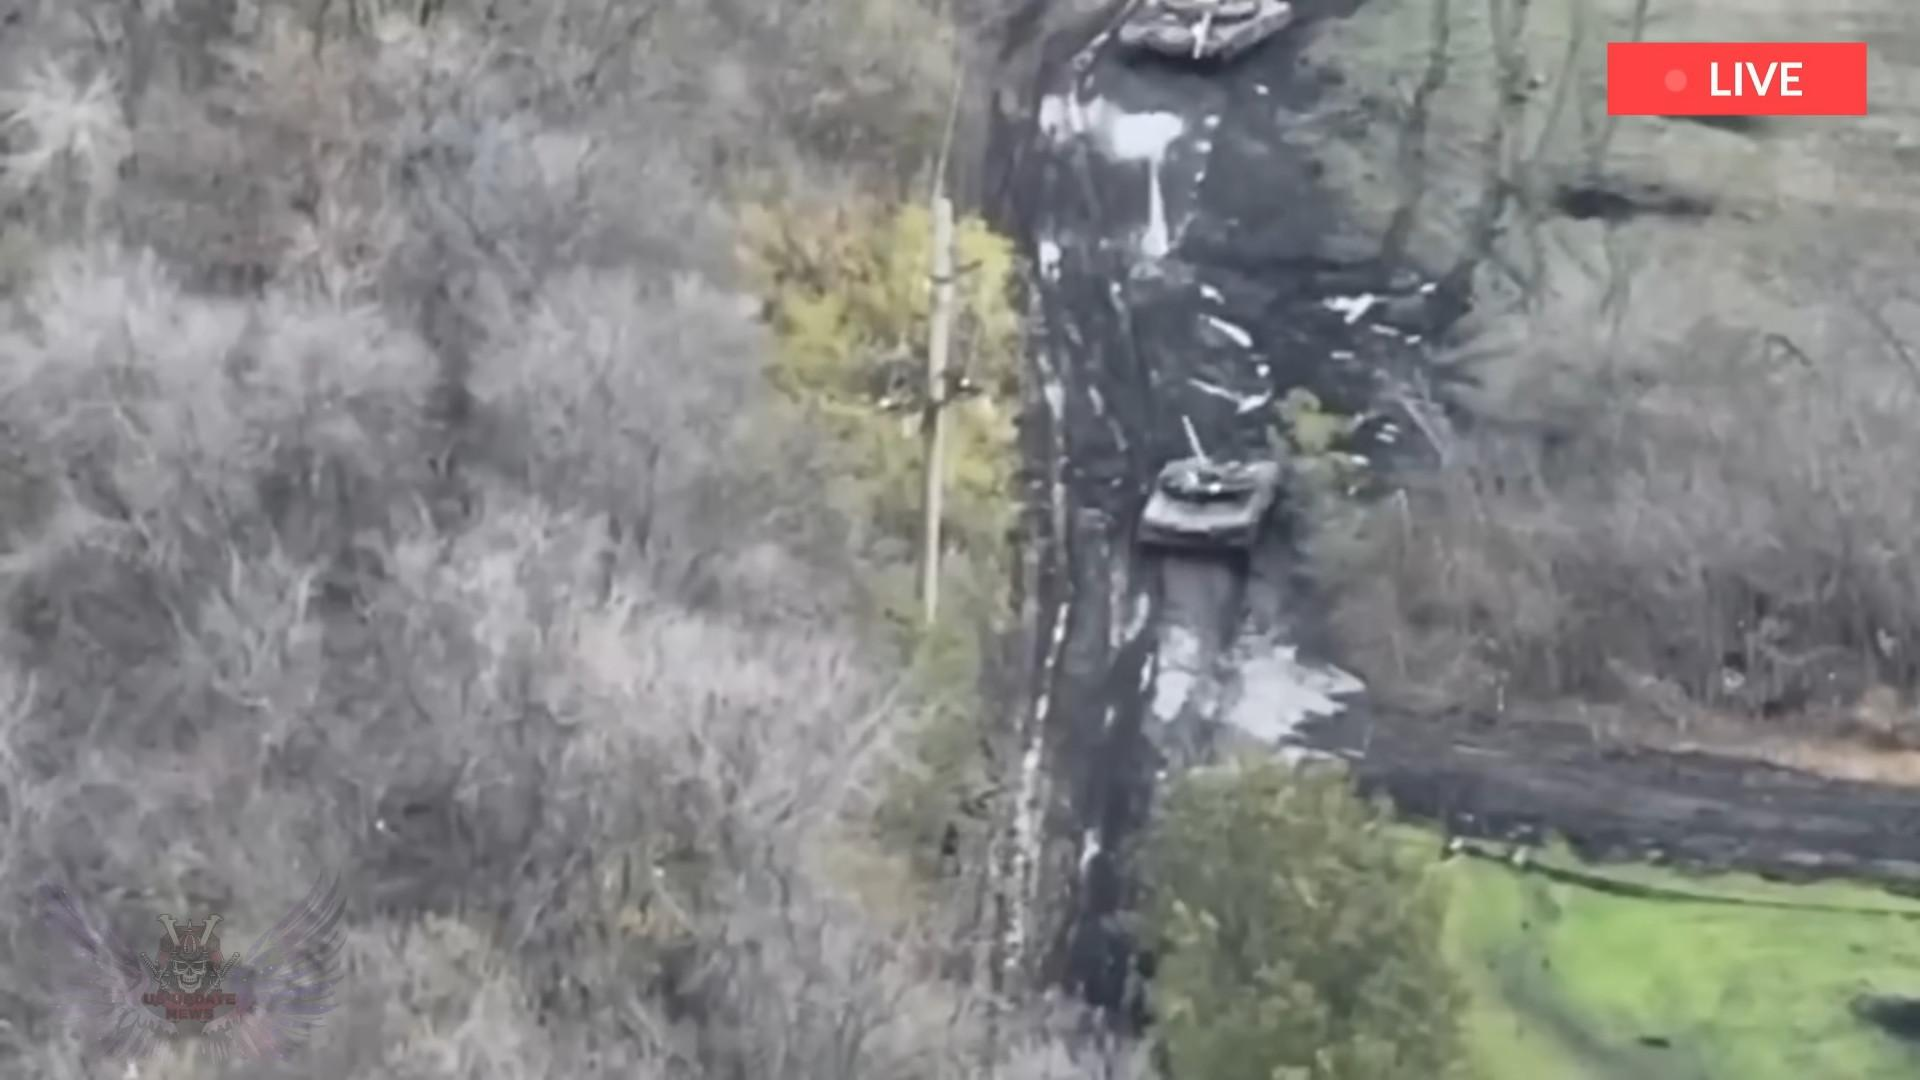tank: (1137, 417, 1283, 558), (1121, 0, 1291, 73)
